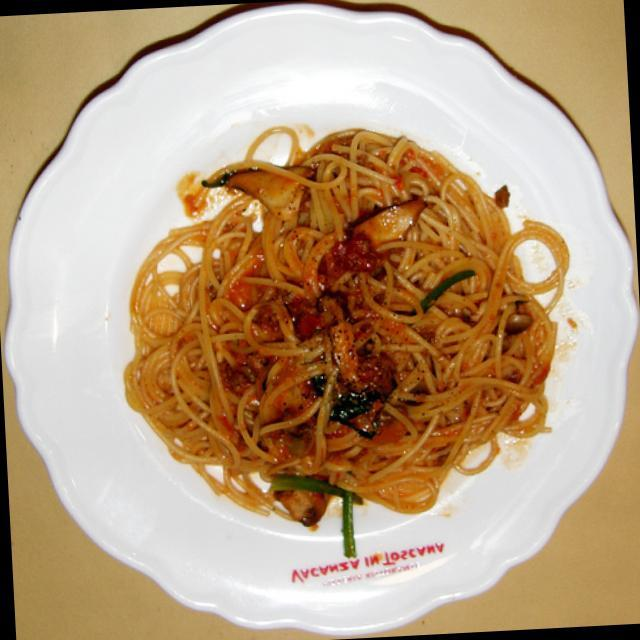Pasta: (118, 116, 582, 536)
